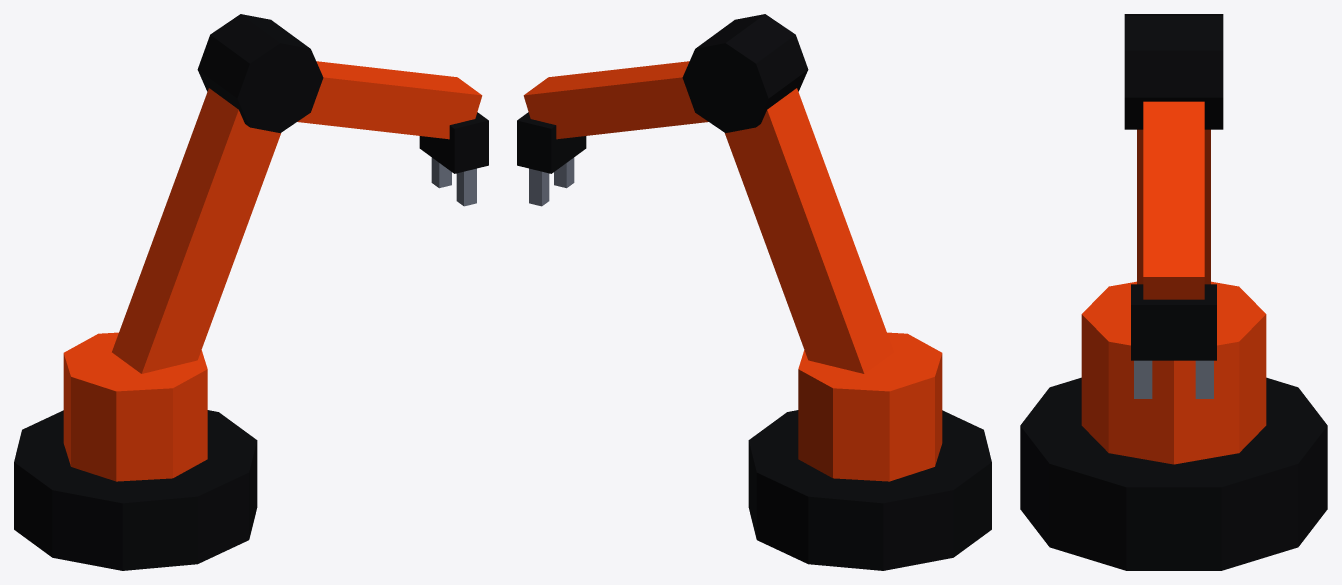
File: robot_arm.obj
3 renders of one model, left to right at view 1: azimuth 30°, elevation 25°; view 2: azimuth 150°, elevation 25°; view 3: azimuth 270°, elevation 25°, orthographic. The views are drawn at different scales.
Parts seen in each view (by area): view 1: robot_arm; view 2: robot_arm; view 3: robot_arm.
Part boxes in pixels (left/top/right/bottom): robot_arm: left=14, top=14, right=488, bottom=570; robot_arm: left=517, top=14, right=991, bottom=570; robot_arm: left=1020, top=14, right=1327, bottom=570.
Size of the model in its own units: 1.02 by 1.02 by 0.5.
